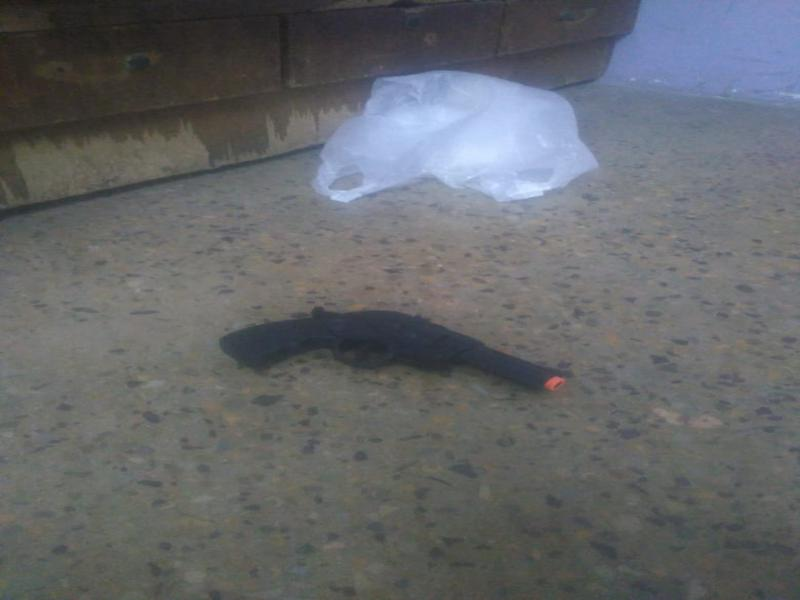gun: (210, 290, 591, 433)
